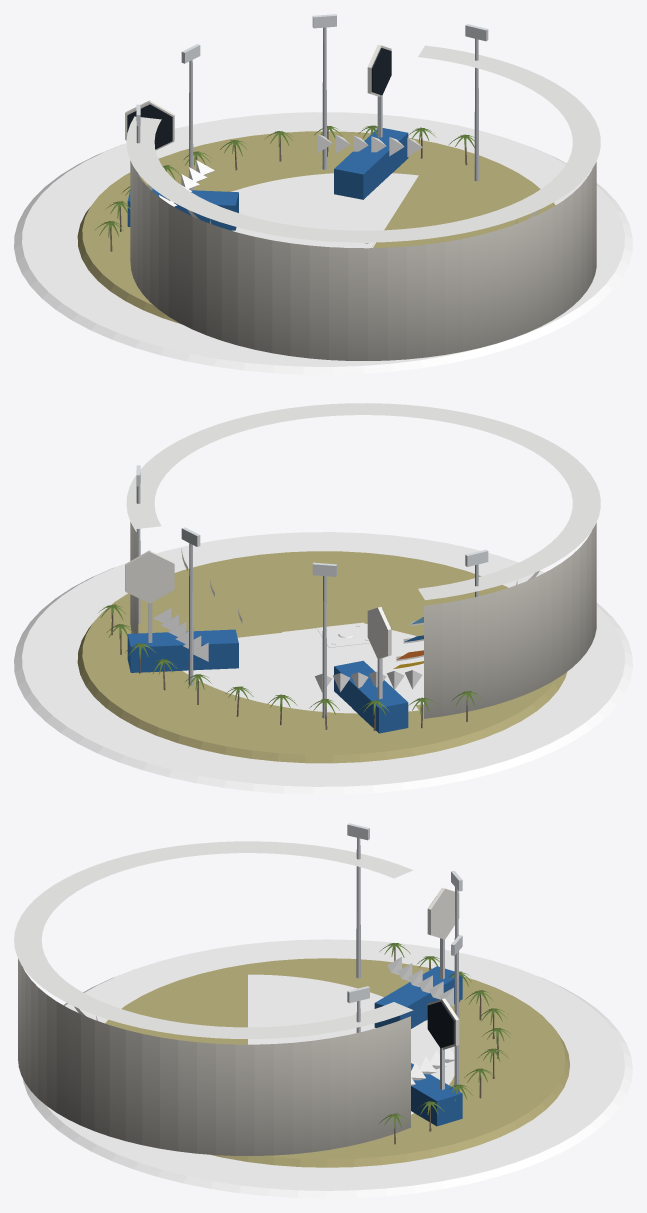
The model's file is st_dodger.glb.
3 renders of one model, top to bottom at view 1: azimuth 30°, elevation 25°; view 2: azimuth 150°, elevation 25°; view 3: azimuth 270°, elevation 25°, orthographic.
Parts seen in each view (by area): view 1: st_dodger; view 2: st_dodger; view 3: st_dodger.
Boxes of the visible parts, <box> form: st_dodger: <box>14,14,632,374</box>; st_dodger: <box>14,403,632,794</box>; st_dodger: <box>14,823,632,1198</box>.
Size of the model in its own units: 30.8 by 9.05 by 31.2.
